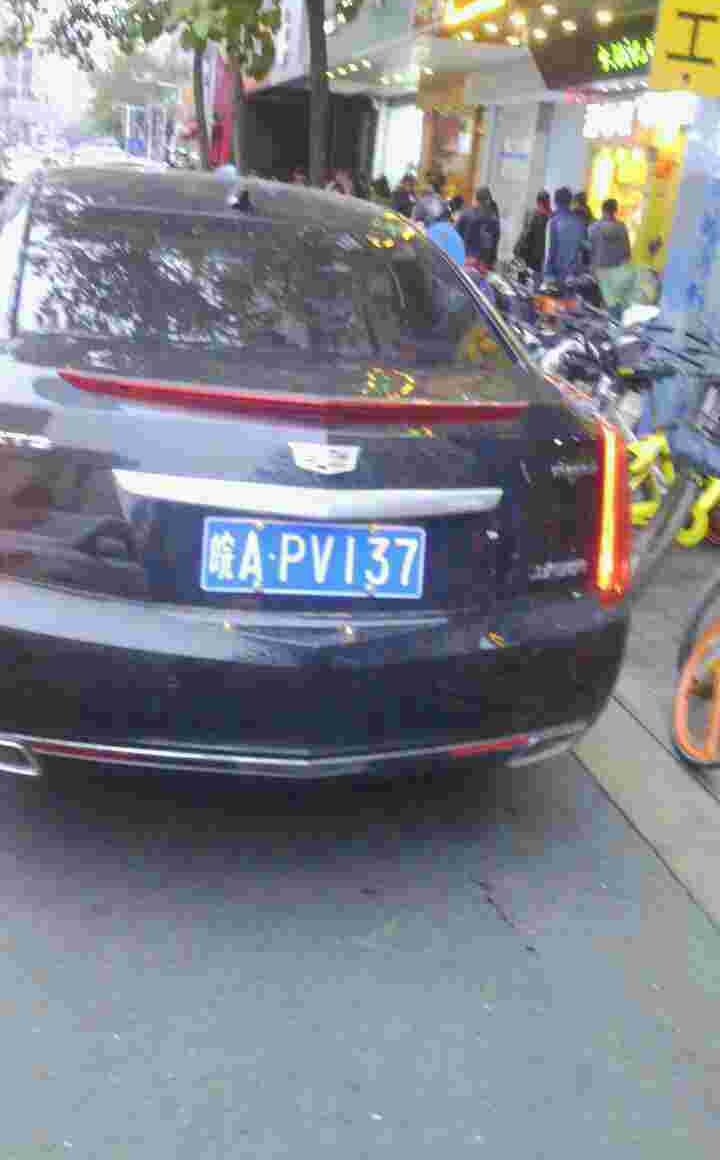plate: (205, 515, 432, 602)
